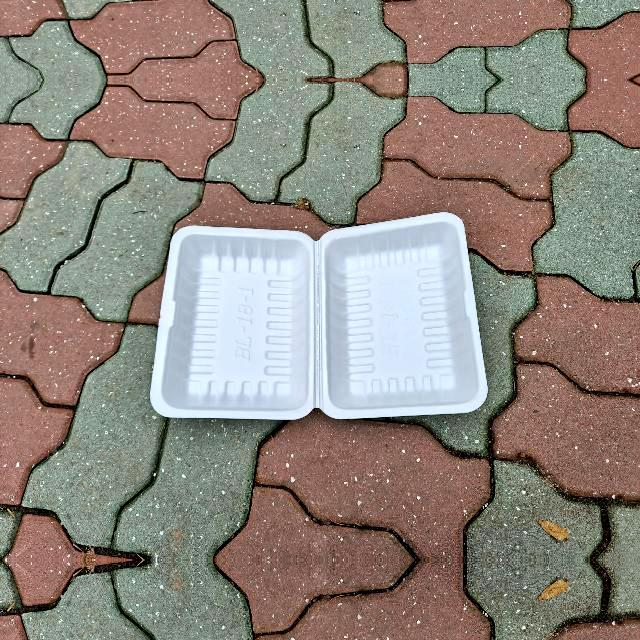Styrofoam: (149, 211, 489, 419), (150, 212, 488, 419)
